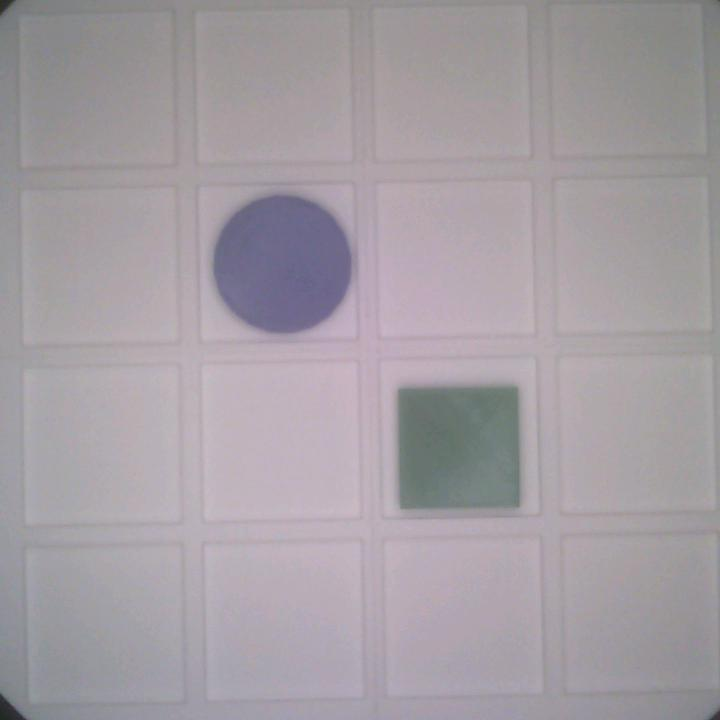Blue circle: (213, 197, 351, 336)
Green square: (397, 386, 524, 509)
